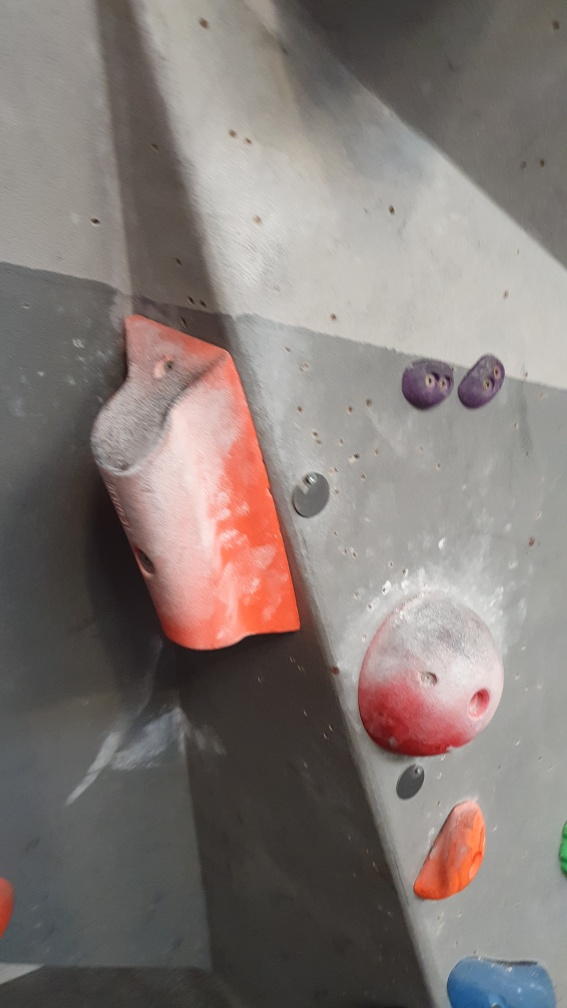Hand Start: (290, 467, 331, 526), (391, 761, 431, 806)
Pinch: (84, 306, 304, 653)
Sloper: (354, 585, 501, 755)
